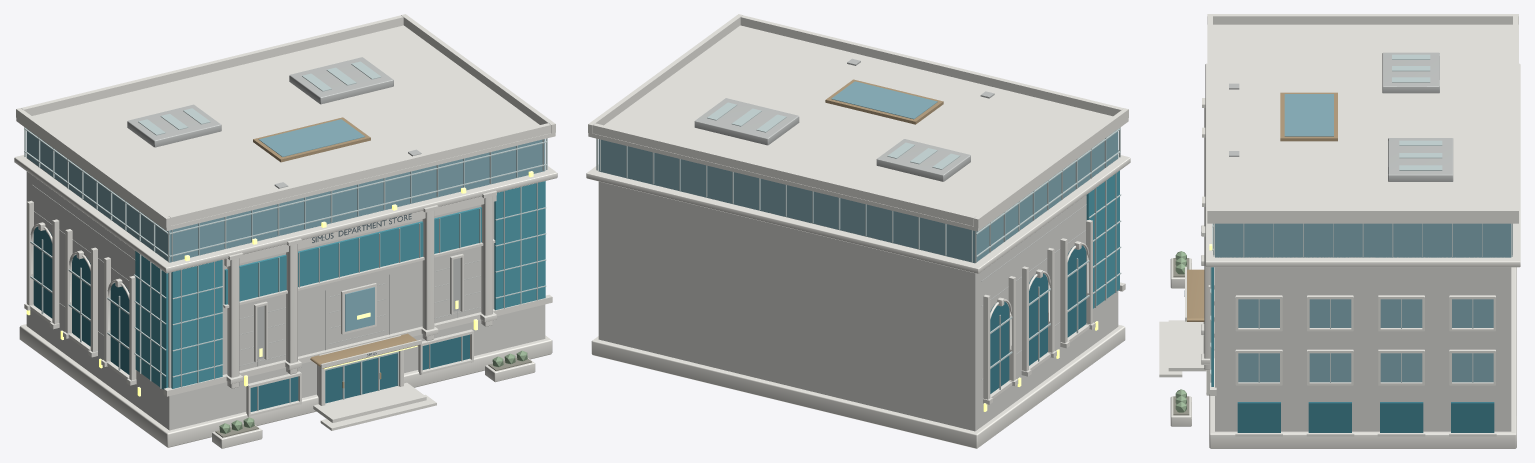
File: SIMUS_Department_Store_v2.glb
3 views of the same model, side by side, from view 1: azimuth 30°, elevation 25°; view 2: azimuth 150°, elevation 25°; view 3: azimuth 270°, elevation 25° (orthographic). The views are drawn at different scales.
Parts seen in each view (by area): view 1: SIMUS store — light limestone trim, SIMUS store — warm ivory limestone, SIMUS store — blue teal curtain glass, SIMUS store — upper blue glass, SIMUS store — pale silver mullions, SIMUS store — deep teal entrance glass, SIMUS store — stone recesses, SIMUS store — warm bronze, SIMUS store — poster blue, SIMUS store — subtle limestone joints, SIMUS store — warm architectural lights, SIMUS store — planter foliage; view 2: SIMUS store — light limestone trim, SIMUS store — warm ivory limestone, SIMUS store — upper blue glass, SIMUS store — pale silver mullions, SIMUS store — stone recesses, SIMUS store — deep teal entrance glass, SIMUS store — blue teal curtain glass, SIMUS store — warm bronze; view 3: SIMUS store — light limestone trim, SIMUS store — warm ivory limestone, SIMUS store — upper blue glass, SIMUS store — deep teal entrance glass, SIMUS store — stone recesses, SIMUS store — pale silver mullions, SIMUS store — warm bronze, SIMUS store — planter foliage.
Part boxes in pixels (x1=…): SIMUS store — light limestone trim: x1=14, y1=14, x2=557, y2=448; SIMUS store — warm ivory limestone: x1=26, y1=158, x2=545, y2=430; SIMUS store — blue teal curtain glass: x1=135, y1=181, x2=545, y2=389; SIMUS store — upper blue glass: x1=26, y1=119, x2=545, y2=262; SIMUS store — pale silver mullions: x1=24, y1=61, x2=547, y2=410; SIMUS store — deep teal entrance glass: x1=33, y1=226, x2=469, y2=411; SIMUS store — stone recesses: x1=127, y1=57, x2=460, y2=359; SIMUS store — warm bronze: x1=253, y1=117, x2=418, y2=388; SIMUS store — poster blue: x1=345, y1=287, x2=374, y2=331; SIMUS store — subtle limestone joints: x1=32, y1=185, x2=481, y2=366; SIMUS store — warm architectural lights: x1=26, y1=171, x2=533, y2=396; SIMUS store — planter foliage: x1=219, y1=350, x2=527, y2=433; SIMUS store — light limestone trim: x1=586, y1=14, x2=1130, y2=448; SIMUS store — warm ivory limestone: x1=598, y1=160, x2=1118, y2=431; SIMUS store — upper blue glass: x1=598, y1=81, x2=1118, y2=263; SIMUS store — pale silver mullions: x1=596, y1=102, x2=1121, y2=389; SIMUS store — stone recesses: x1=694, y1=58, x2=994, y2=181; SIMUS store — deep teal entrance glass: x1=990, y1=245, x2=1086, y2=393; SIMUS store — blue teal curtain glass: x1=1086, y1=170, x2=1119, y2=308; SIMUS store — warm bronze: x1=825, y1=79, x2=943, y2=124; SIMUS store — light limestone trim: x1=1159, y1=14, x2=1520, y2=448; SIMUS store — warm ivory limestone: x1=1215, y1=257, x2=1511, y2=431; SIMUS store — upper blue glass: x1=1215, y1=94, x2=1511, y2=382; SIMUS store — deep teal entrance glass: x1=1237, y1=402, x2=1494, y2=432; SIMUS store — stone recesses: x1=1214, y1=52, x2=1453, y2=334; SIMUS store — pale silver mullions: x1=1210, y1=54, x2=1512, y2=382; SIMUS store — warm bronze: x1=1187, y1=92, x2=1337, y2=321; SIMUS store — planter foliage: x1=1175, y1=251, x2=1186, y2=412.
Size of the model in its own units: 24.41 by 13.74 by 18.8.
